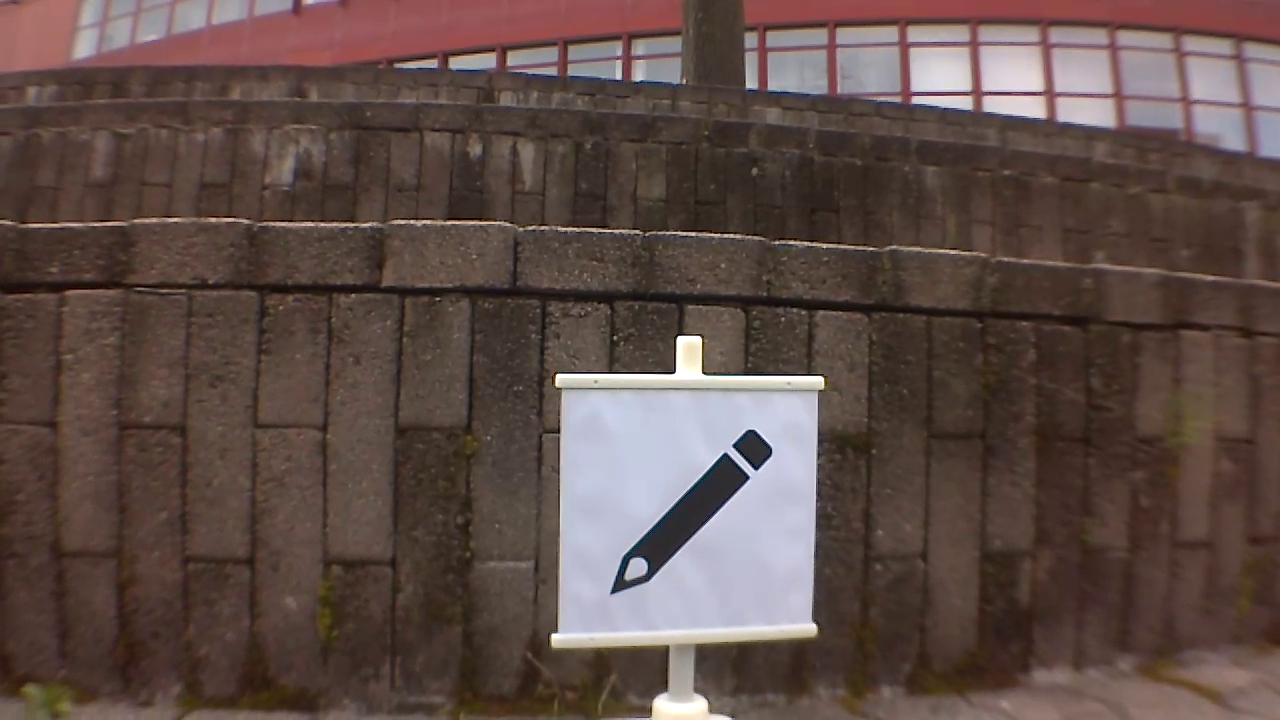pencil: (605, 423, 789, 596)
